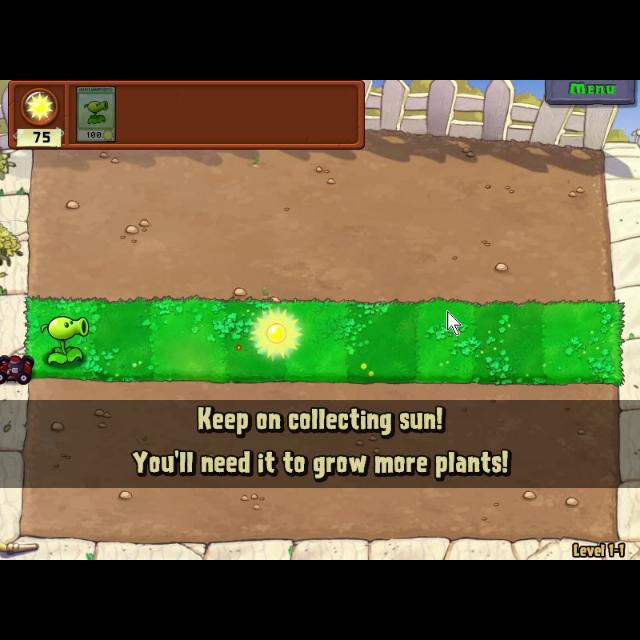Garden: (21, 292, 628, 388)
Menu Button: (545, 80, 637, 106)
Mower: (0, 351, 34, 385)
Peashooter: (75, 82, 121, 144)
Peashooter Seed: (36, 308, 98, 372)
Seed Panel: (4, 80, 370, 152)
Sun: (247, 302, 303, 366)
